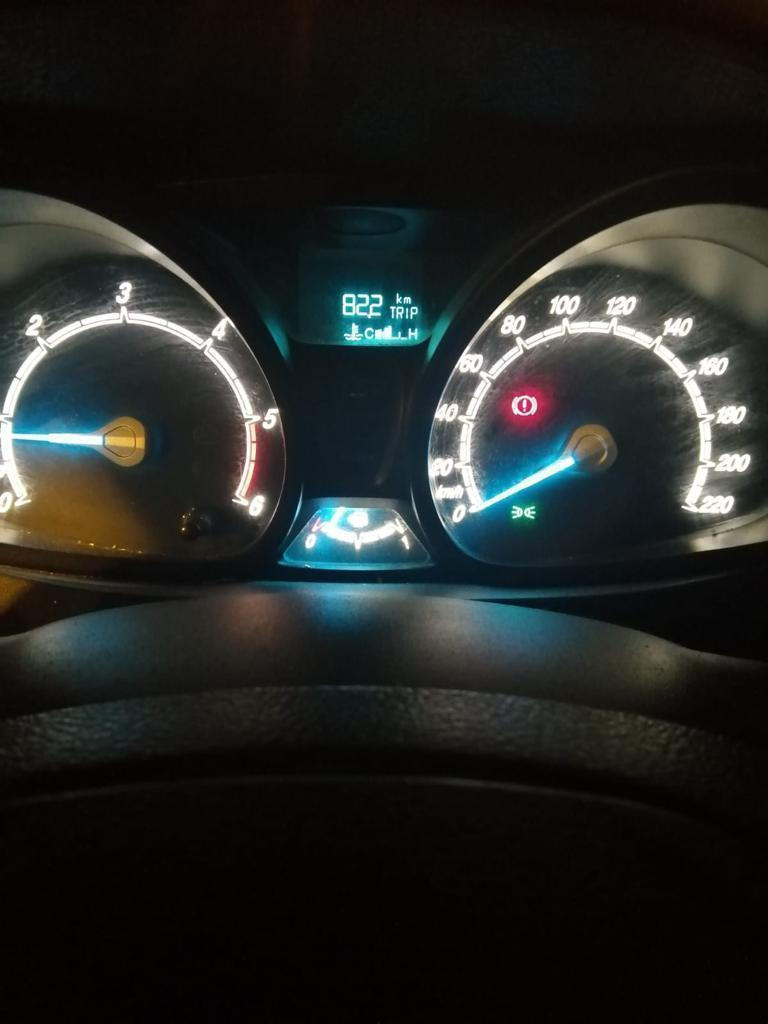,: (366, 314, 371, 319)
2: (370, 293, 383, 315), (356, 292, 368, 315)
8: (341, 292, 355, 316)
X: (363, 326, 374, 340), (407, 326, 418, 340), (409, 305, 418, 319), (395, 306, 404, 319), (388, 305, 395, 319), (395, 291, 402, 304), (404, 306, 409, 320), (403, 296, 411, 304)
odometer: (282, 270, 440, 350)
